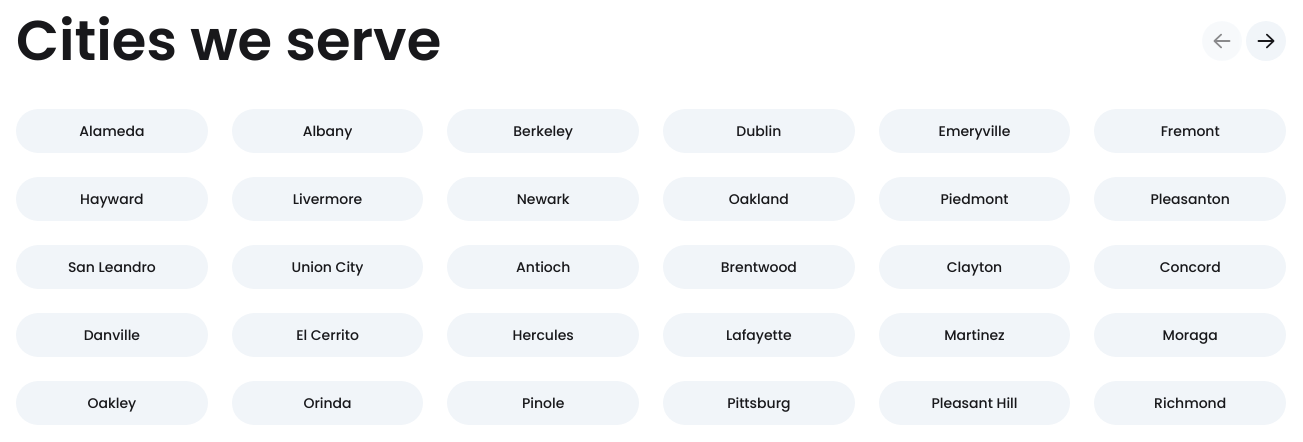
Test case: CitiesSection › City Links › should show different cities on page 2
This screenshot has width=1303, height=442.
Expected: the text "Alameda" is shown, [79,121,144,141]
# Navigate to page 2
Click the button named "Next page of cities" at (1266, 41), box [1246,21,1286,61]
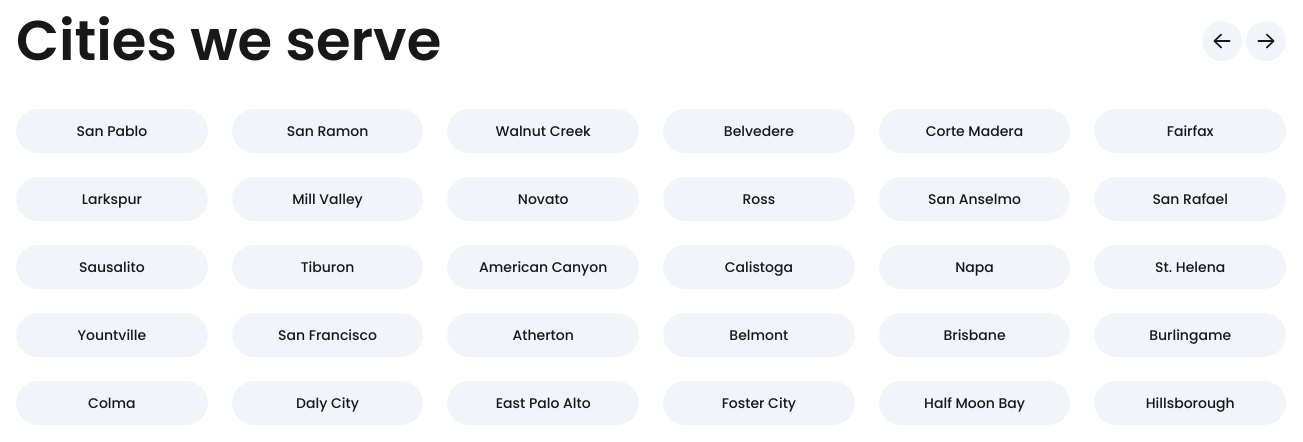
Expected: the button "Alameda" is gone
